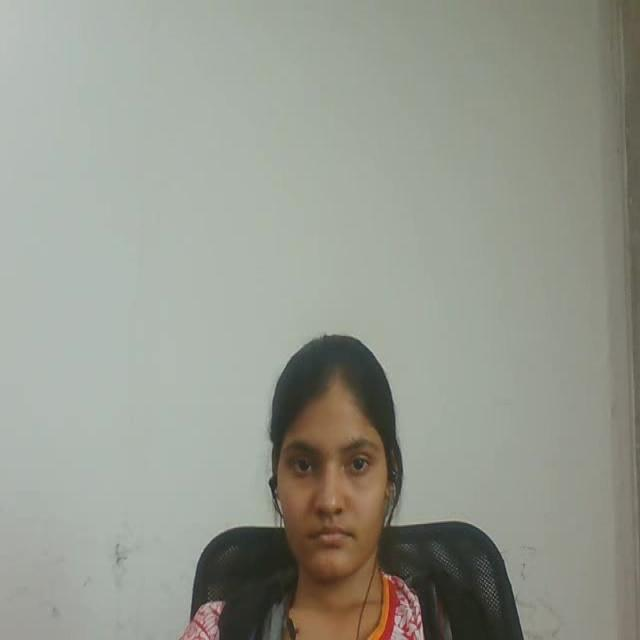Engaged: (220, 302, 470, 618)
